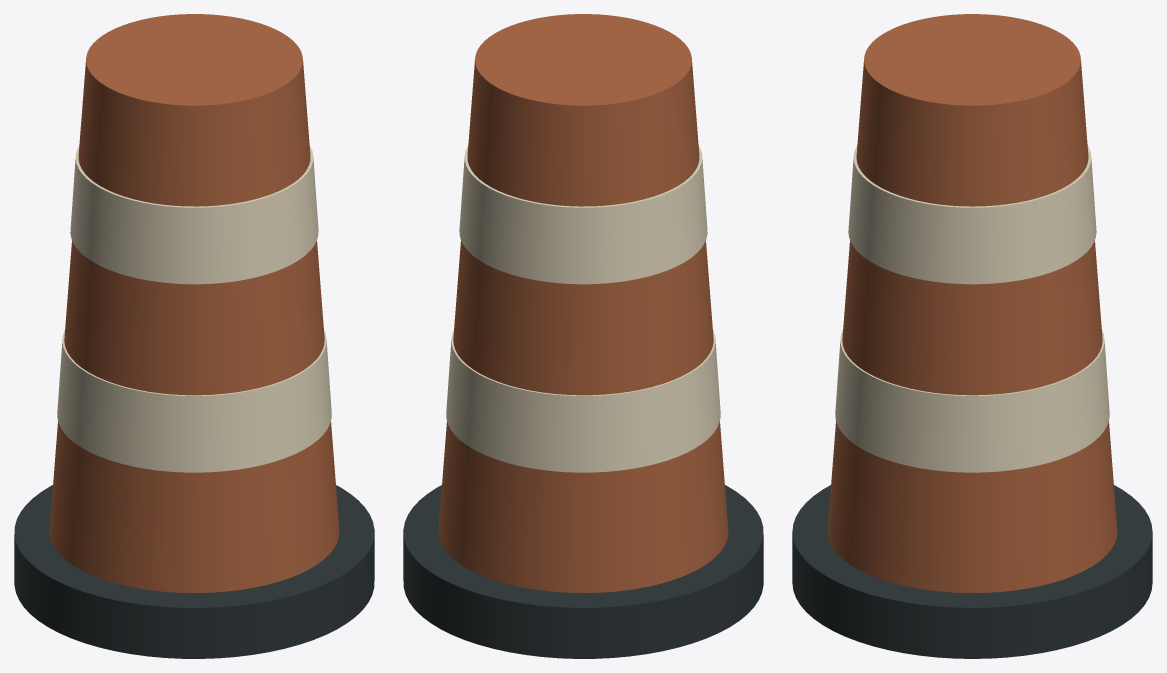
The model's file is roadwork_drum.glb.
3 views of the same model, side by side, from view 1: azimuth 30°, elevation 25°; view 2: azimuth 150°, elevation 25°; view 3: azimuth 270°, elevation 25° (orthographic).
Parts seen in each view (by area): view 1: Orange barrel, Weighted base, Reflector band, Reflector band.001; view 2: Orange barrel, Weighted base, Reflector band, Reflector band.001; view 3: Orange barrel, Weighted base, Reflector band, Reflector band.001.
Boxes of the visible parts, bbox=[...] form: Orange barrel: bbox=[49, 14, 339, 592]; Weighted base: bbox=[14, 485, 374, 658]; Reflector band: bbox=[57, 330, 331, 472]; Reflector band.001: bbox=[70, 145, 318, 284]; Orange barrel: bbox=[438, 14, 728, 592]; Weighted base: bbox=[403, 485, 763, 658]; Reflector band: bbox=[446, 330, 720, 472]; Reflector band.001: bbox=[459, 145, 707, 284]; Orange barrel: bbox=[827, 14, 1117, 592]; Weighted base: bbox=[792, 485, 1152, 658]; Reflector band: bbox=[835, 330, 1109, 472]; Reflector band.001: bbox=[848, 146, 1096, 284].
Bounding box in the file's own units: 0.518 × 0.83 × 0.518.
